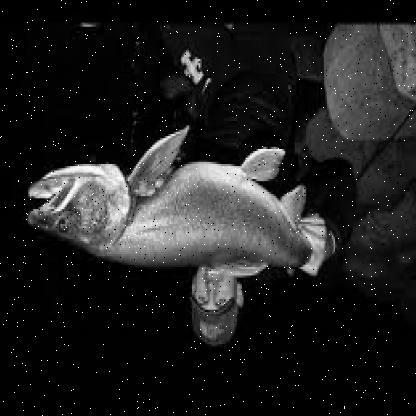fish: (26, 128, 326, 279)
